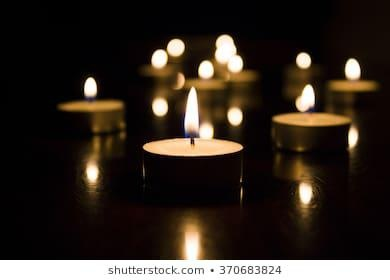fire: (182, 82, 206, 138), (293, 81, 316, 112)
